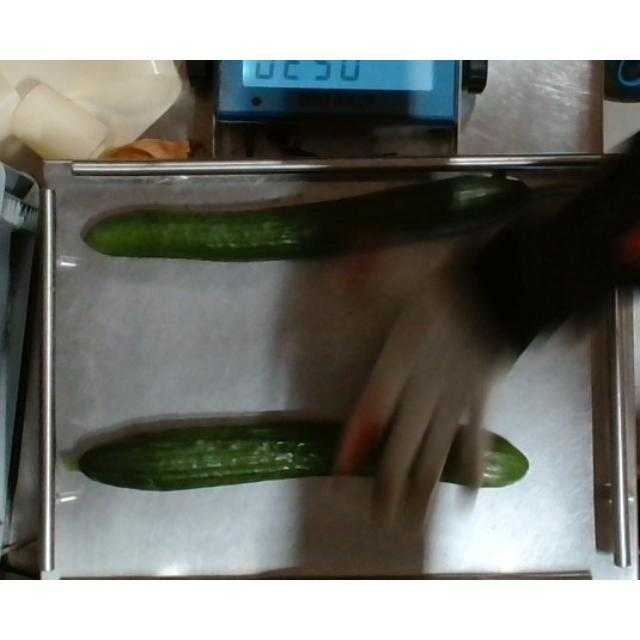cucumber: (80, 172, 560, 262), (82, 412, 526, 496)
